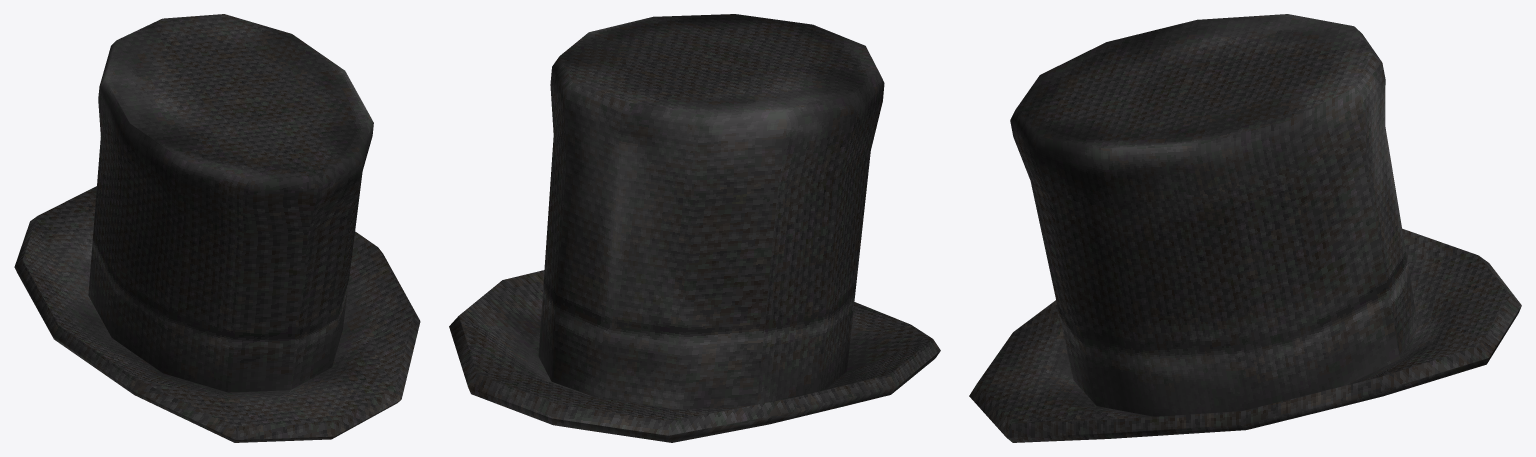
File: tophat.glb
3 renders of one model, left to right at view 1: azimuth 30°, elevation 25°; view 2: azimuth 150°, elevation 25°; view 3: azimuth 270°, elevation 25°, orthographic. The views are drawn at different scales.
Parts seen in each view (by area): view 1: cosmetic_tophat; view 2: cosmetic_tophat; view 3: cosmetic_tophat.
Boxes of the visible parts, <box> form: cosmetic_tophat: <box>14,14,420,442</box>; cosmetic_tophat: <box>449,14,940,442</box>; cosmetic_tophat: <box>969,14,1521,442</box>.
Bounding box in the file's own units: 0.7951 × 0.6917 × 0.9797.
Materials: 1 (1 with a texture image).
